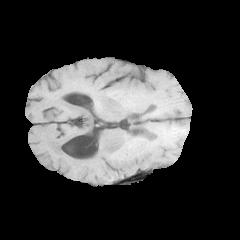glioma: (44, 116, 181, 181)
